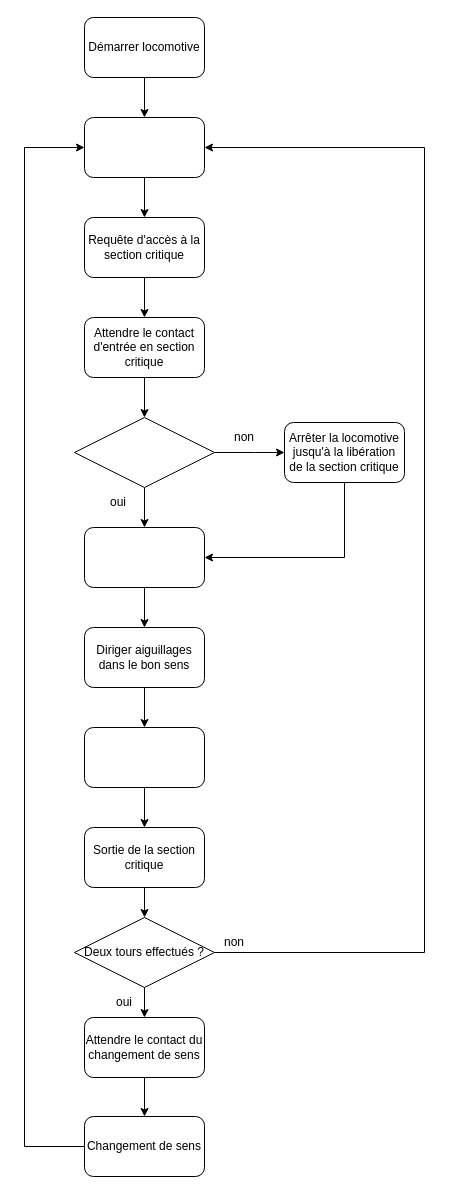
This 450x1194 diagram has some shape labels left out. The centre of each missing label's shape, as x and y in pixels:
Attendre le contact de requête d'accès: (144,147)
Attendre le contact de sortie de la section critique: (144,757)
Entrée en section critique: (144,557)
Section critique libre ?: (144,452)
